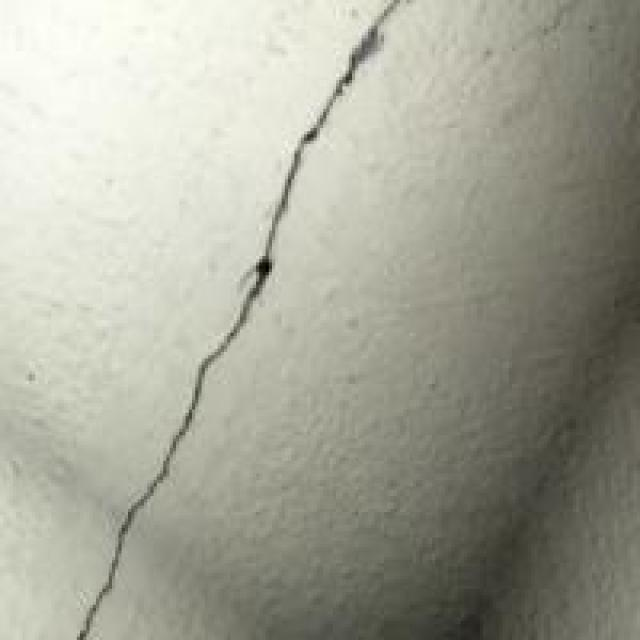crack: (54, 0, 416, 637)
